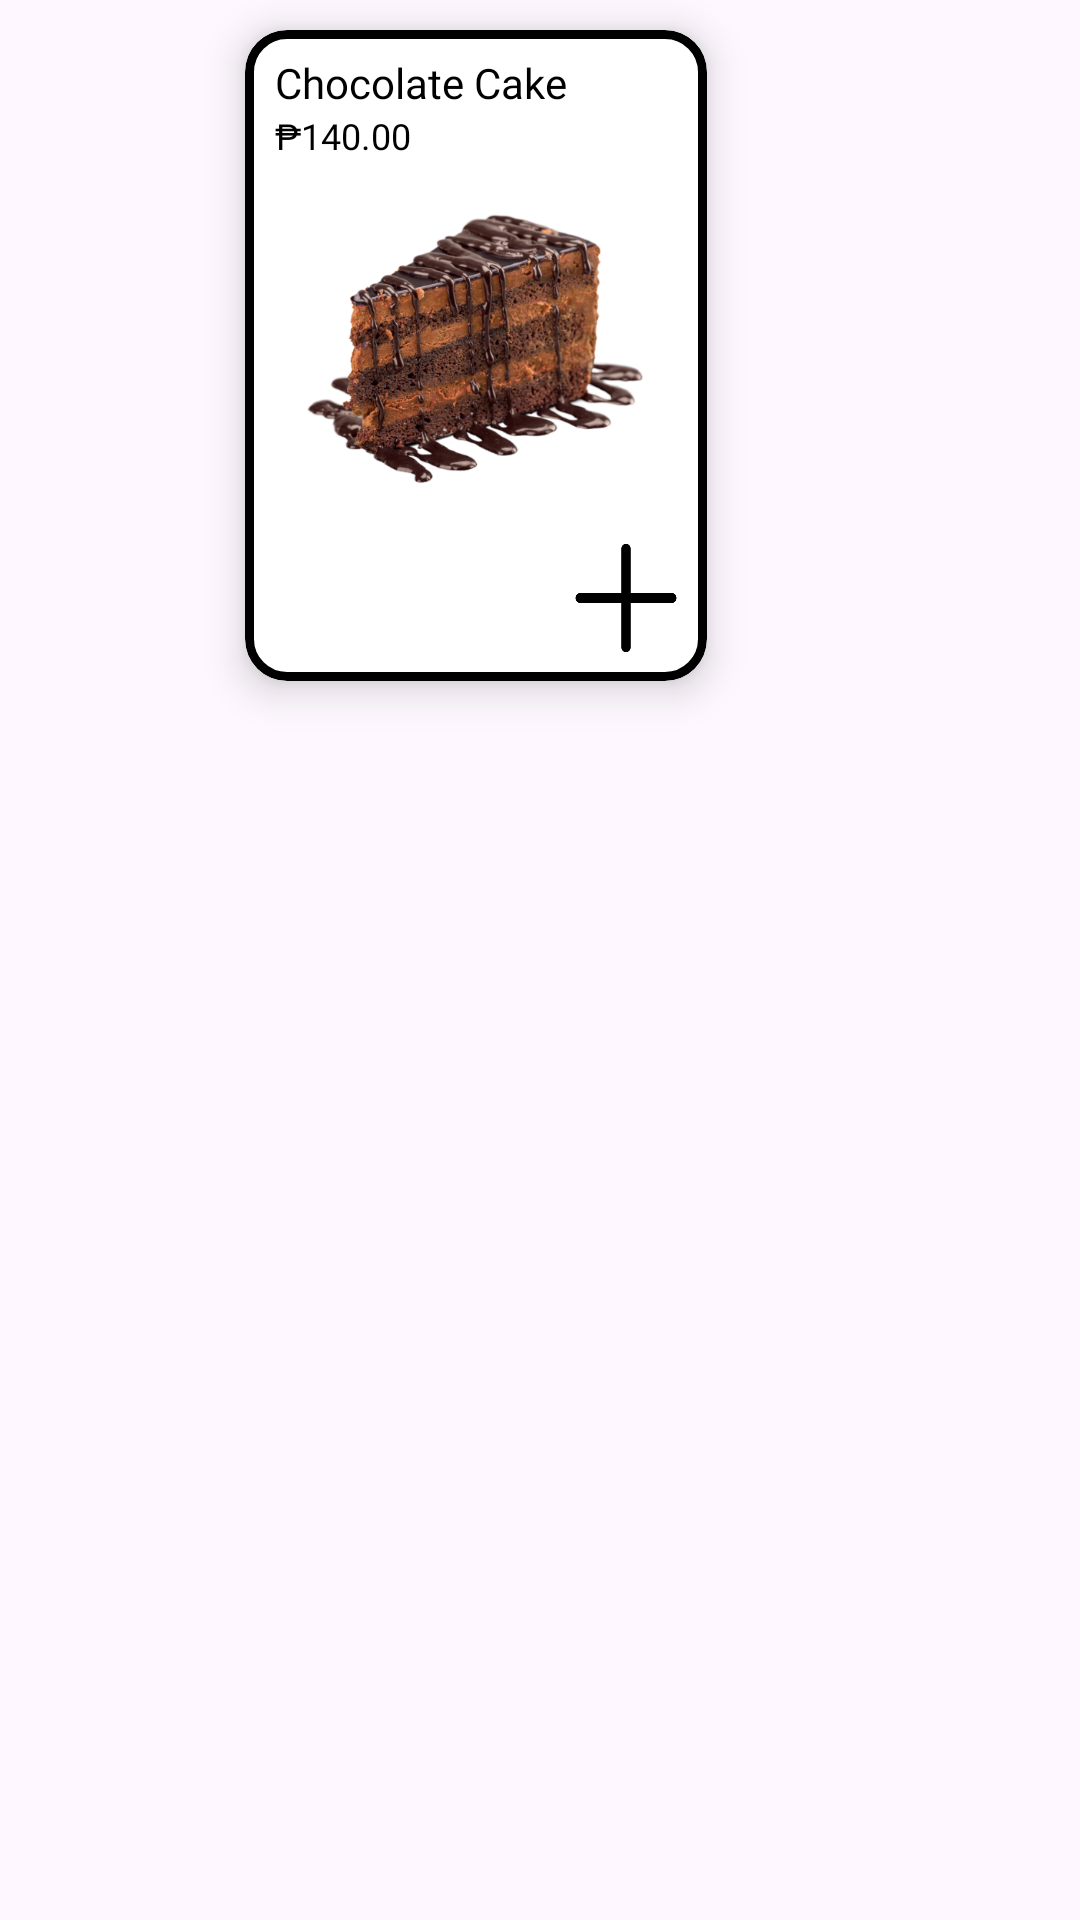

Where to tap for icons on this 1080w x 1920h app screen, as point (x, y):
add: point (626, 596)
